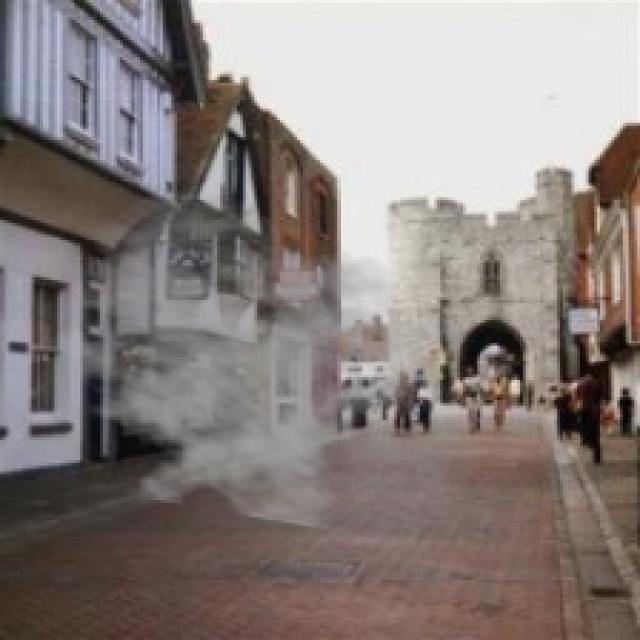smoke: (26, 188, 443, 532)
